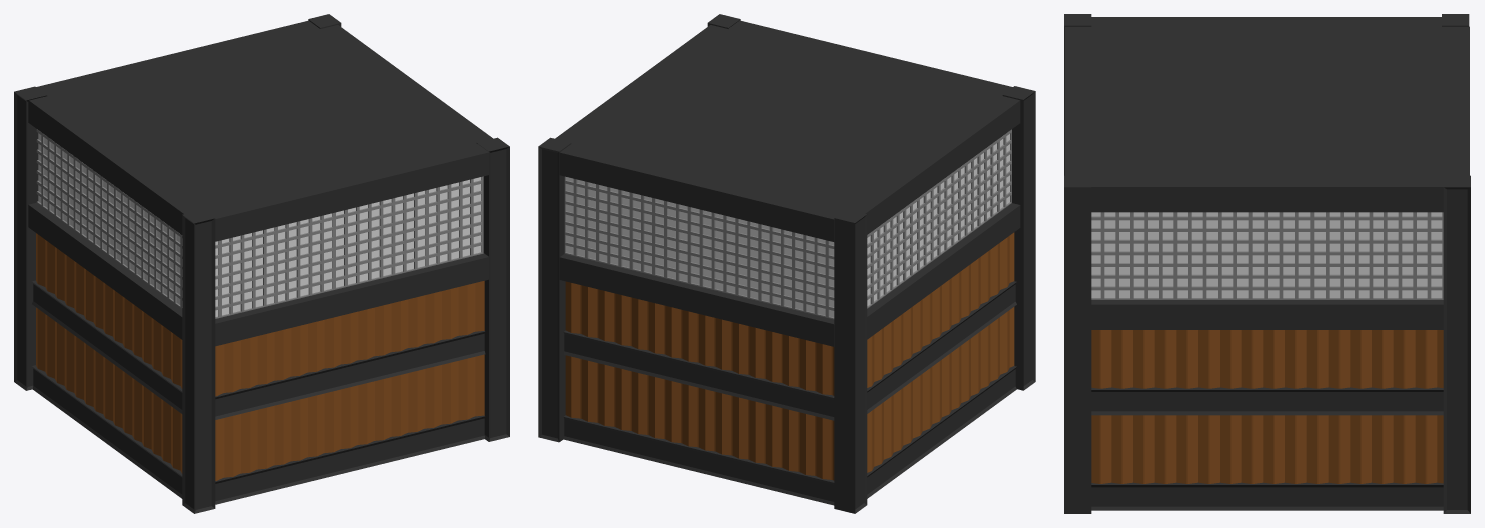
Rendered from P_Maison_Var2.fbx.
The picture shows the model from 3 angles, left to right: view 1: azimuth 30°, elevation 25°; view 2: azimuth 150°, elevation 25°; view 3: azimuth 270°, elevation 25°; orthographic projection. The views are drawn at different scales.
Parts seen in each view (by area): view 1: P_Maison_tole_var2; view 2: P_Maison_tole_var2; view 3: P_Maison_tole_var2.
Part boxes in pixels (x1,y1,x2,y2): P_Maison_tole_var2: (14,14,509,513); P_Maison_tole_var2: (538,14,1035,513); P_Maison_tole_var2: (1064,14,1470,513).
Size of the model in its own units: 1183 by 1041 by 1174.
